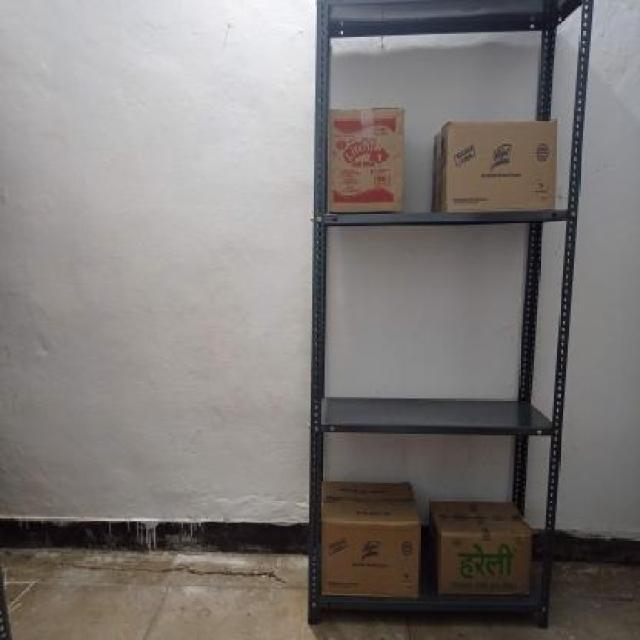box: (442, 120, 555, 211), (330, 110, 404, 216), (320, 520, 420, 596), (438, 532, 532, 596)
